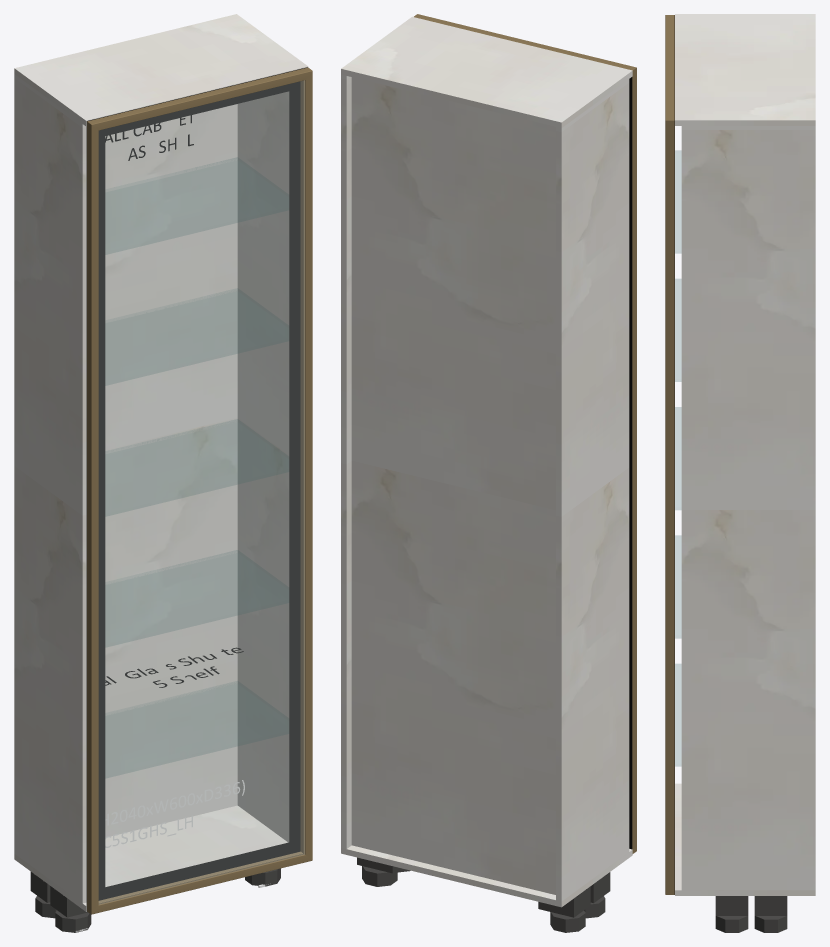
The model's file is TC5S1GHS_LH (H2040xW600xD336).glb.
The picture shows the model from 3 angles, left to right: view 1: azimuth 30°, elevation 25°; view 2: azimuth 150°, elevation 25°; view 3: azimuth 270°, elevation 25°; orthographic projection. The views are drawn at different scales.
Size of what is drawn, in the model's own units: 0.6 by 2.14 by 0.358.
9 materials, 1 textured.
